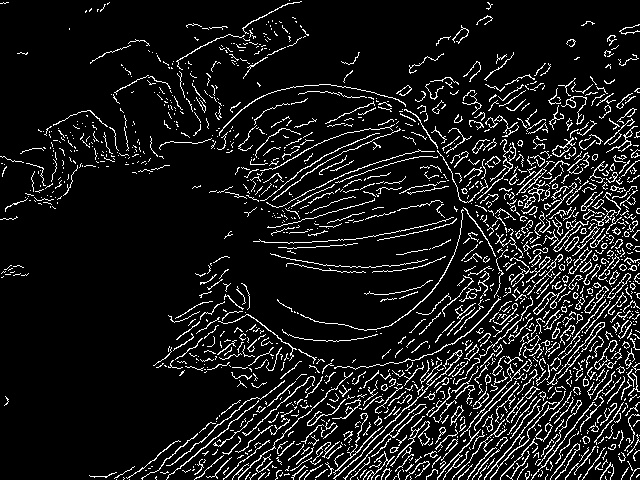onion: (167, 72, 484, 373)
